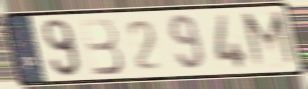2: (127, 19, 164, 73)
4: (214, 11, 250, 72)
9: (41, 17, 83, 79), (167, 12, 208, 74)
B: (78, 16, 126, 78)
M: (239, 8, 301, 71)
